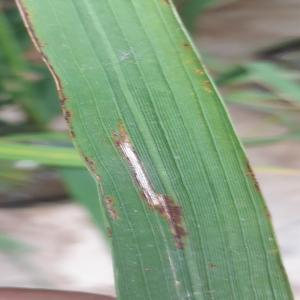Busuk Leher: (108, 122, 162, 222), (157, 191, 191, 255)
